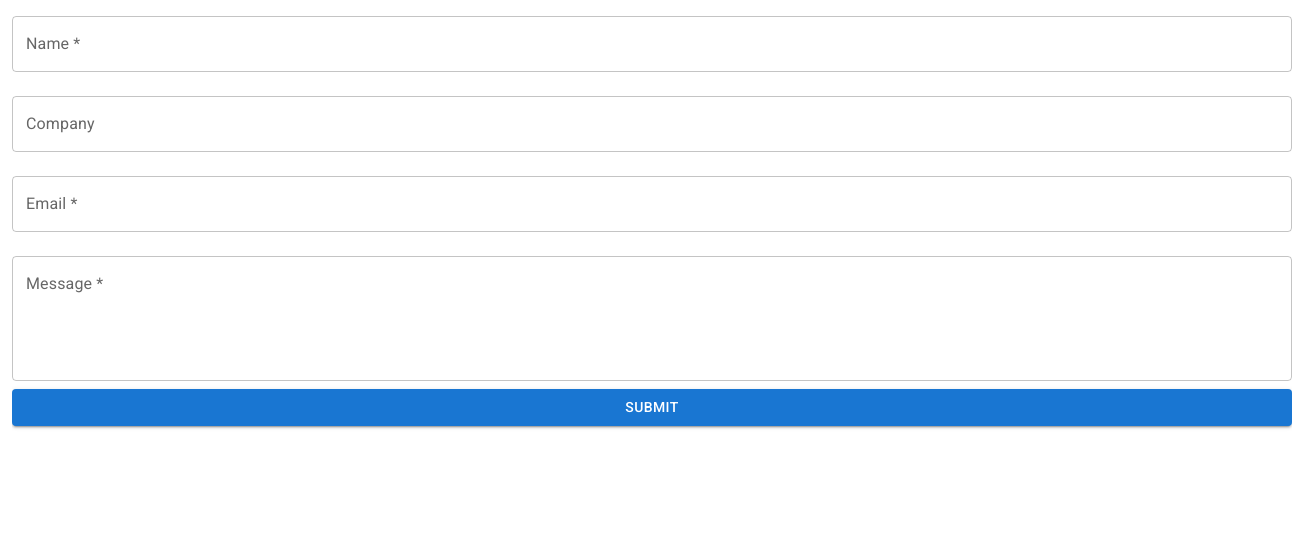
ContactForm › displays success when request is successful
Type "Test Name" into the field labelled "Name *".
click(652, 44); type("Test Name")  # box [12, 16, 1292, 72]
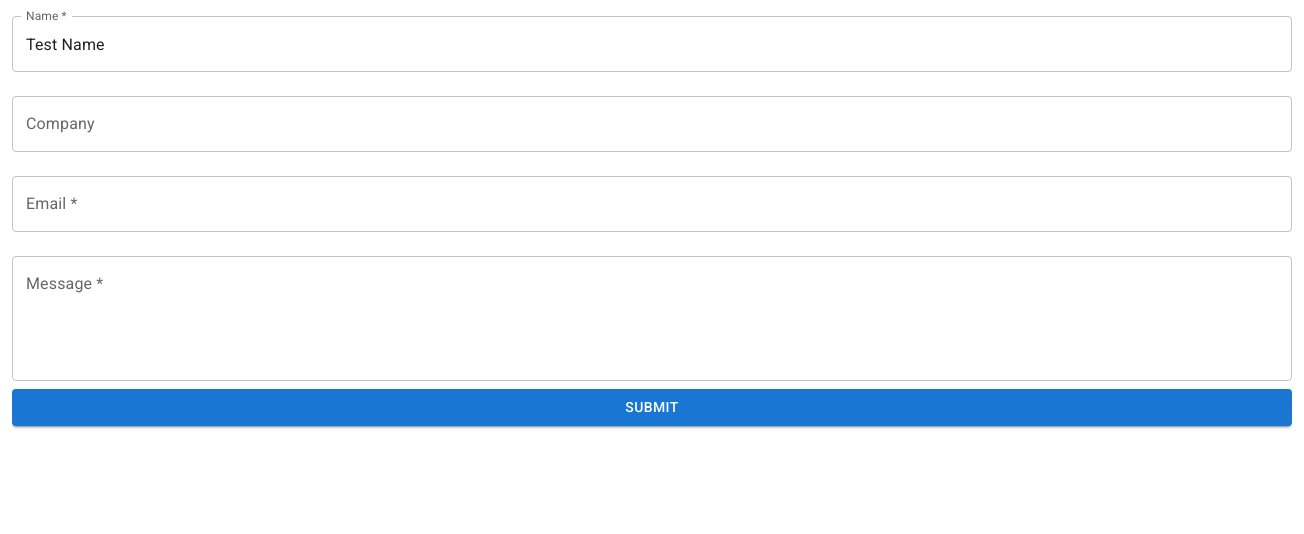
Type "Test Company" into the field labelled "Company".
click(652, 124); type("Test Company")  # box [12, 96, 1292, 152]
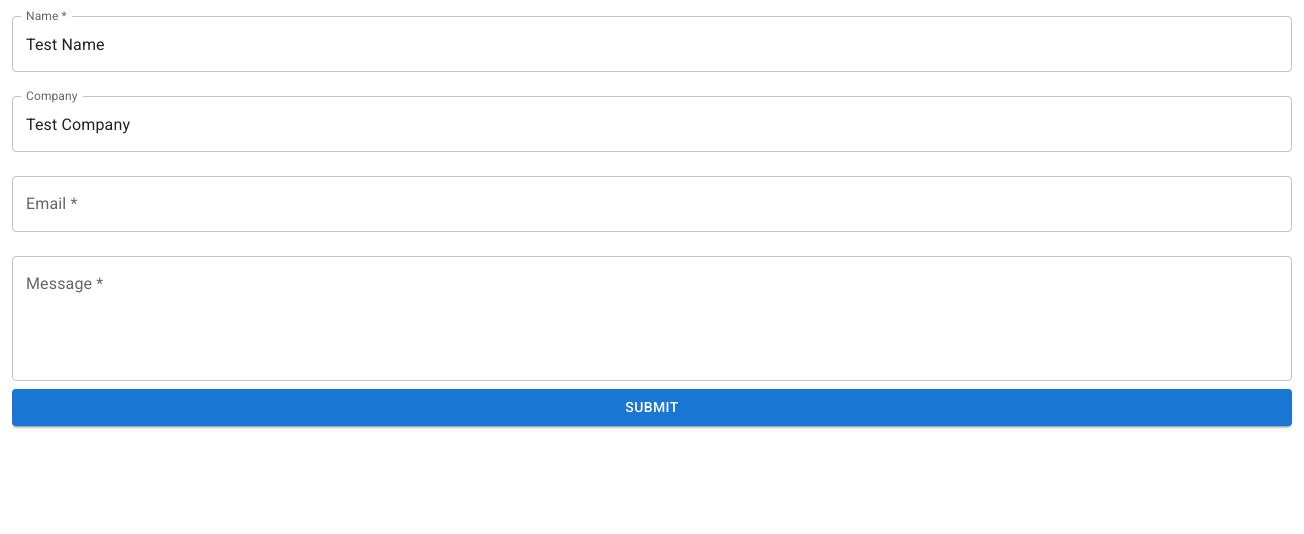
Type "test@test.com" into the field labelled "Email *".
click(652, 204); type("test@test.com")  # box [12, 176, 1292, 232]
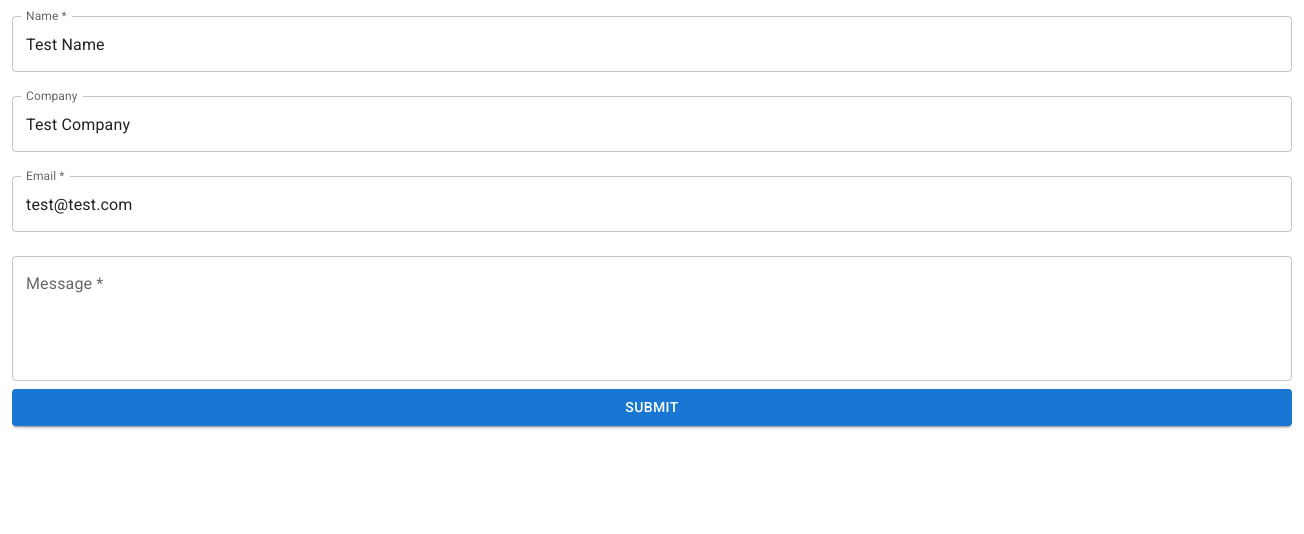
Type "Test Message" into the text box labelled "Message *".
click(652, 318); type("Test Message")  # box [26, 272, 1278, 364]
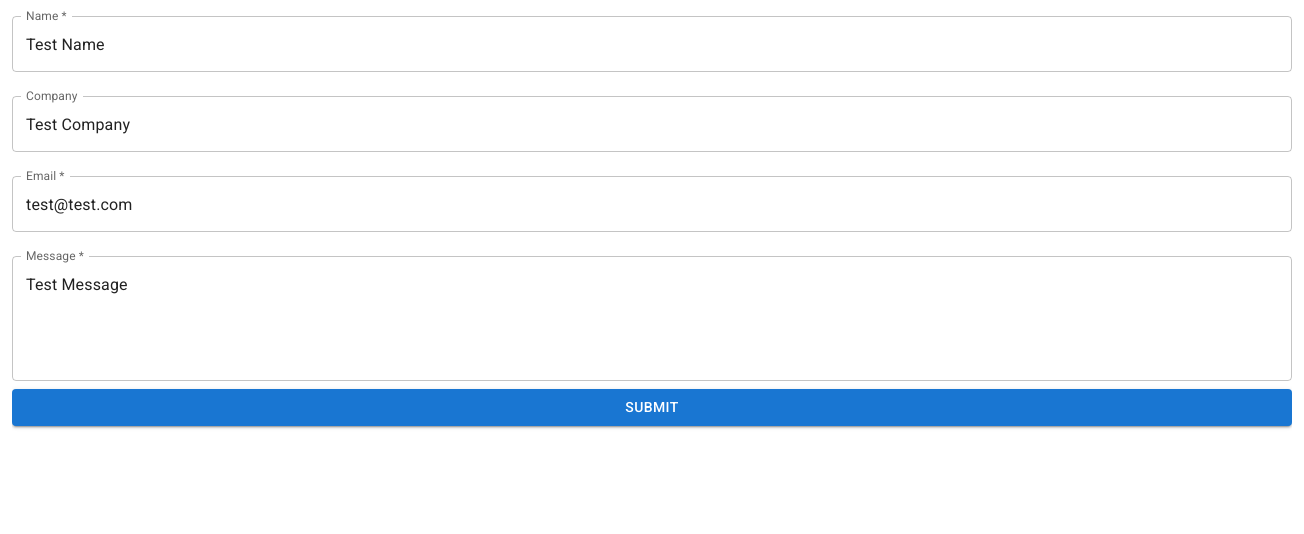
Click the button "Submit".
click(652, 407)  # box [12, 389, 1292, 426]
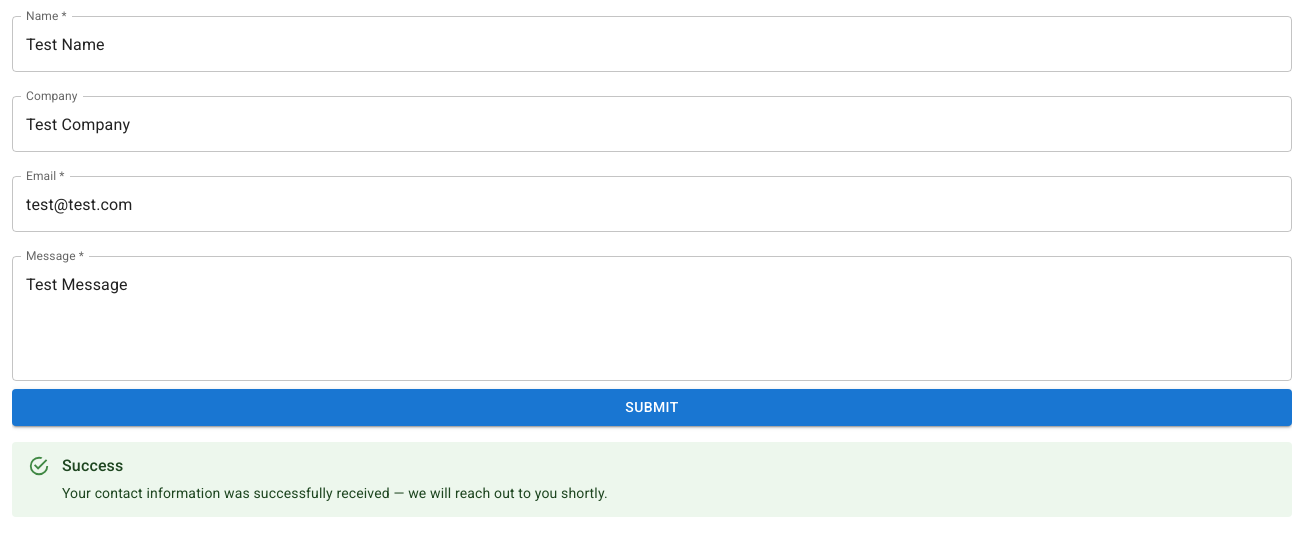
Expected: the text "Your contact information was successfully received — we will reach out to you shortly." is shown, [62, 485, 608, 501]
